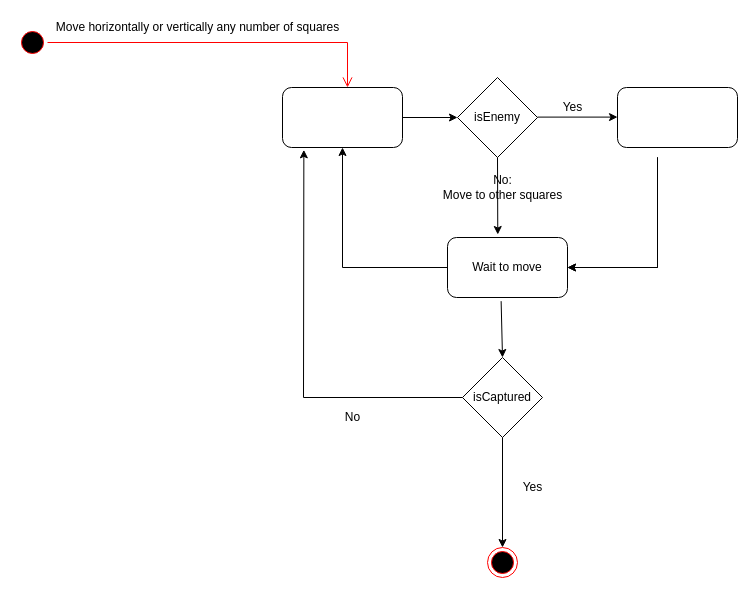
The diagram is 755 pixels wide and 595 high, and some of its shapes have lost their labels. The shapes that lost their labels are listed below. From the top down, each one's centre as x and y in pixels, then its label:
At pixel 342 117: "Detect occupied squares".
At pixel 677 117: "Capture enemy".
